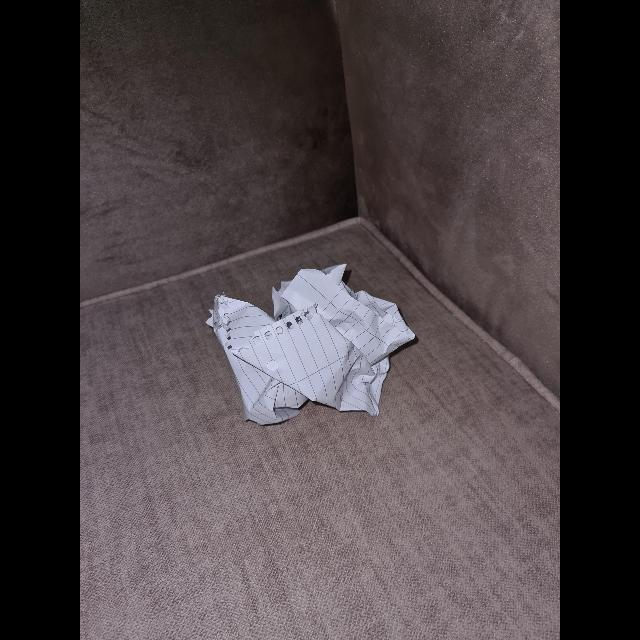scrap_paper: (214, 262, 416, 422)
